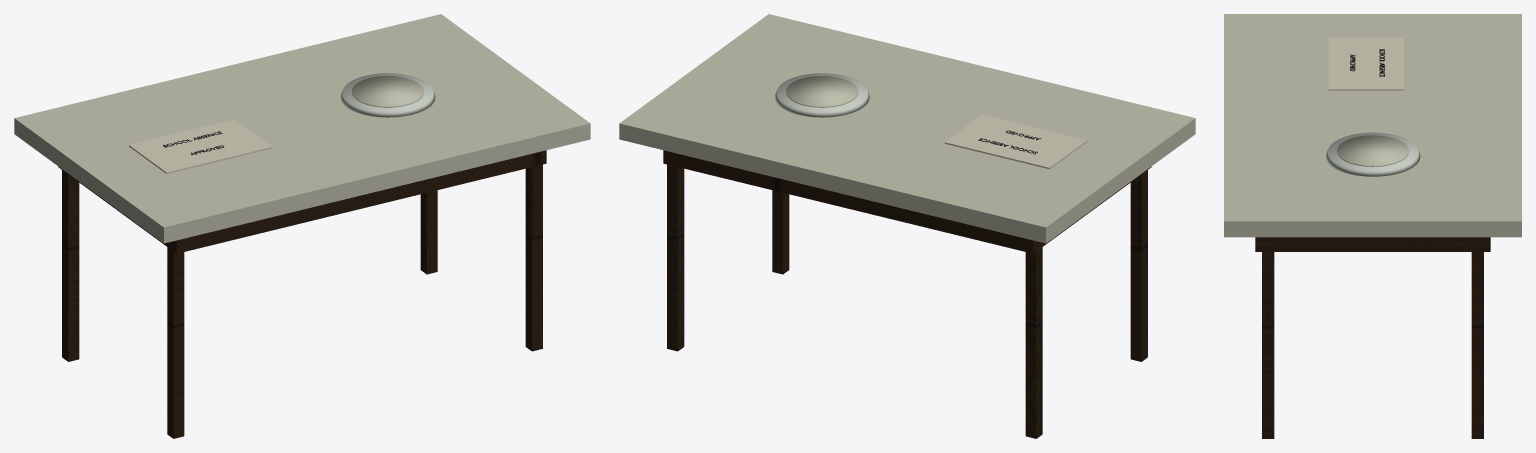
The model's file is home-dining-table.glb.
3 views of the same model, side by side, from view 1: azimuth 30°, elevation 25°; view 2: azimuth 150°, elevation 25°; view 3: azimuth 270°, elevation 25° (orthographic).
Parts seen in each view (by area): view 1: Formica dining top, Dining apron, Brown envelope, Tapered kitchen table leg, Tapered kitchen table leg.001, Tapered kitchen table leg.002, Unwashed plate centre, Unwashed plate rim, Tapered kitchen table leg.003; view 2: Formica dining top, Dining apron, Brown envelope, Tapered kitchen table leg.001, Tapered kitchen table leg, Tapered kitchen table leg.003, Unwashed plate centre, Unwashed plate rim, Tapered kitchen table leg.002; view 3: Formica dining top, Brown envelope, Dining apron, Tapered kitchen table leg.002, Tapered kitchen table leg.003, Unwashed plate centre, Unwashed plate rim.
Part boxes in pixels (x1,y1,x2,y2): Formica dining top: (14, 14, 590, 243); Dining apron: (58, 150, 546, 253); Brown envelope: (129, 119, 271, 173); Tapered kitchen table leg: (167, 247, 184, 438); Tapered kitchen table leg.001: (62, 170, 79, 361); Tapered kitchen table leg.002: (525, 164, 542, 351); Unwashed plate centre: (351, 76, 423, 107); Unwashed plate rim: (340, 73, 435, 117); Tapered kitchen table leg.003: (420, 190, 437, 274); Formica dining top: (619, 14, 1195, 243); Dining apron: (663, 150, 1151, 253); Brown envelope: (944, 114, 1087, 169); Tapered kitchen table leg.001: (1025, 247, 1042, 438); Tapered kitchen table leg: (1130, 170, 1147, 361); Tapered kitchen table leg.003: (667, 164, 684, 351); Unwashed plate centre: (786, 76, 858, 107); Unwashed plate rim: (774, 73, 869, 117); Tapered kitchen table leg.002: (772, 190, 789, 274); Formica dining top: (1224, 14, 1521, 237); Brown envelope: (1328, 38, 1403, 90); Dining apron: (1255, 237, 1490, 251); Tapered kitchen table leg.002: (1262, 252, 1274, 438); Tapered kitchen table leg.003: (1471, 252, 1483, 438); Unwashed plate centre: (1337, 135, 1408, 166); Unwashed plate rim: (1325, 132, 1420, 176).
Size of the model in its own units: 1.5 by 0.81 by 0.91.
Materials: 5 (1 with a texture image).
